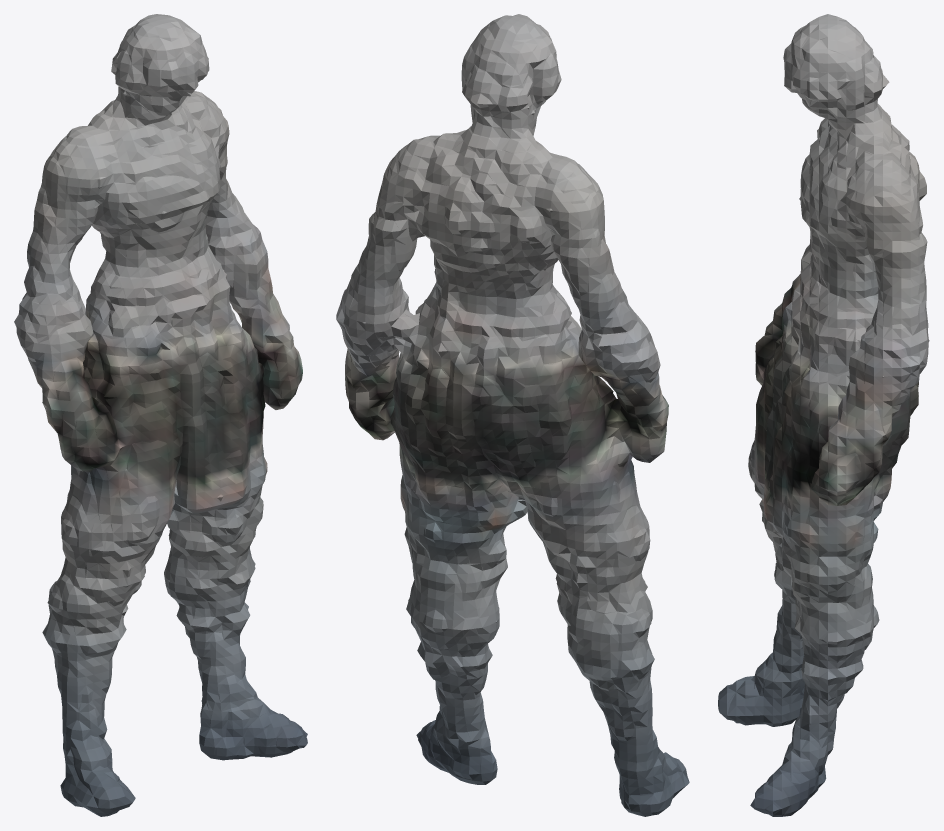
File: hadori-triposr-v1.glb
3 views of the same model, side by side, from view 1: azimuth 30°, elevation 25°; view 2: azimuth 150°, elevation 25°; view 3: azimuth 270°, elevation 25° (orthographic). The views are drawn at different scales.
Parts seen in each view (by area): view 1: world; view 2: world; view 3: world.
Part boxes in pixels (bbox=[...]): world: bbox=[14, 14, 307, 816]; world: bbox=[336, 14, 689, 816]; world: bbox=[718, 14, 929, 816].
Size of the model in its own units: 0.7076 by 1.78 by 0.4577.
